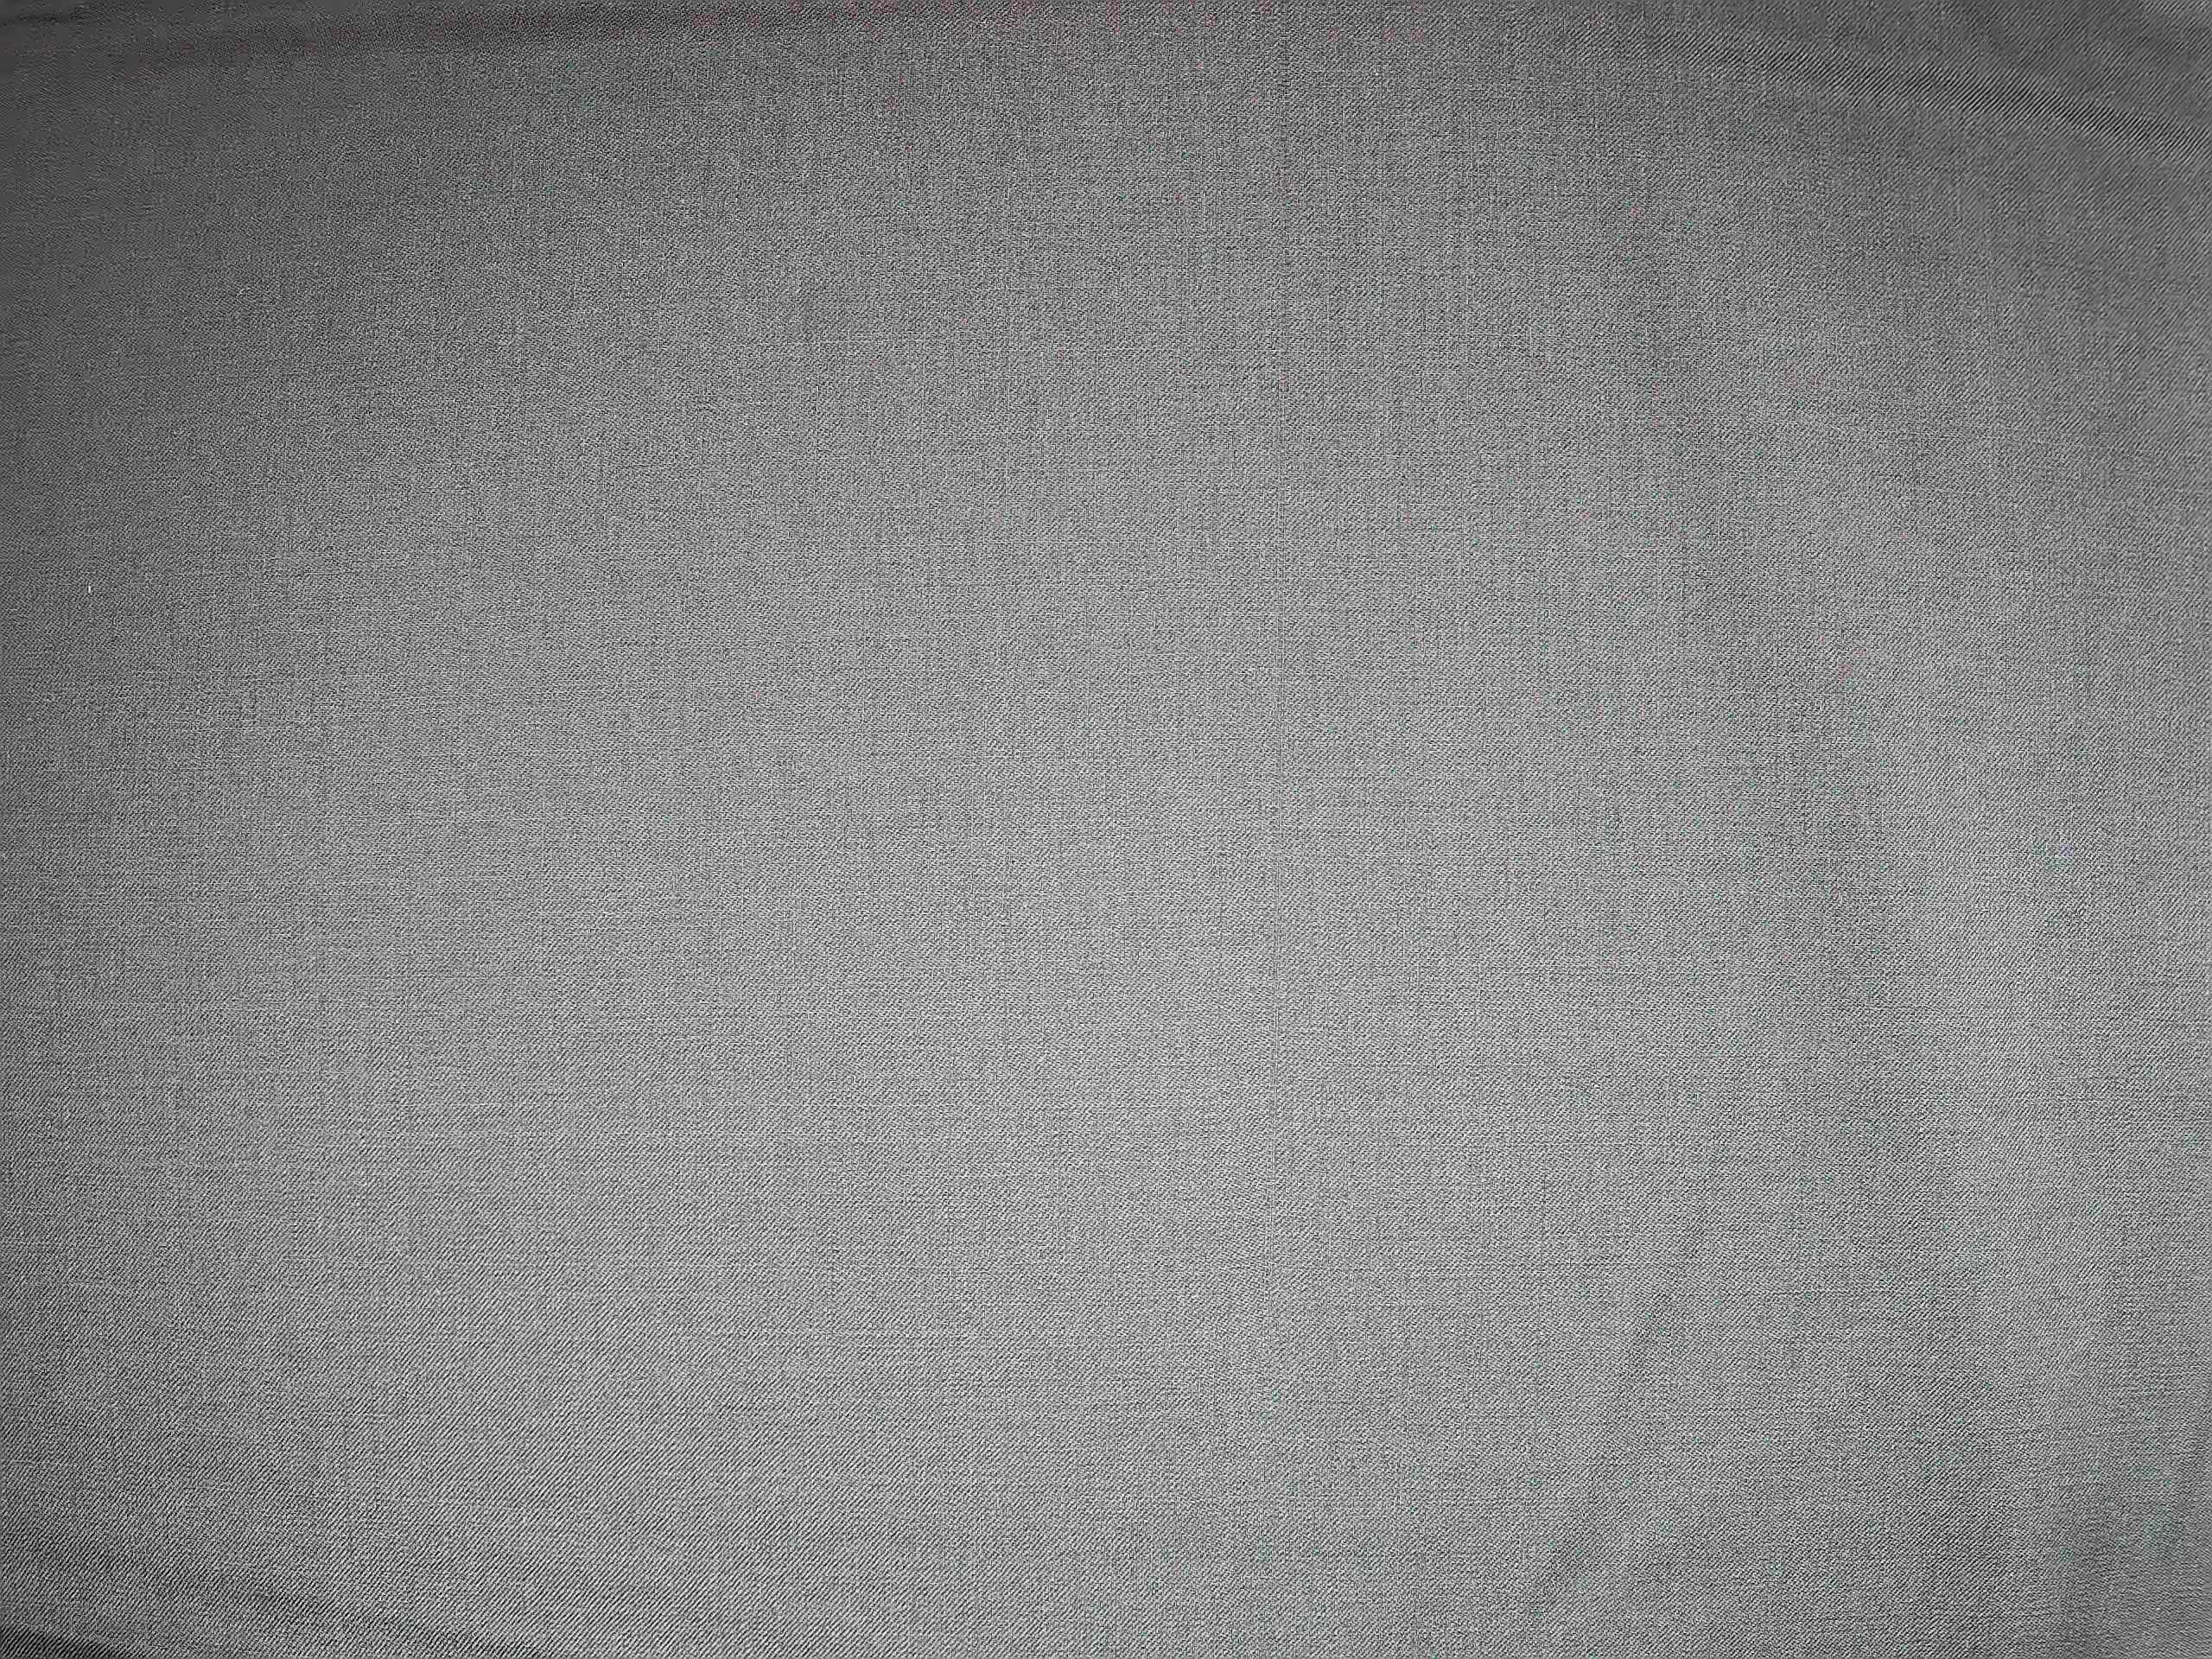hanging-warp: (1252, 10, 1322, 1251)
